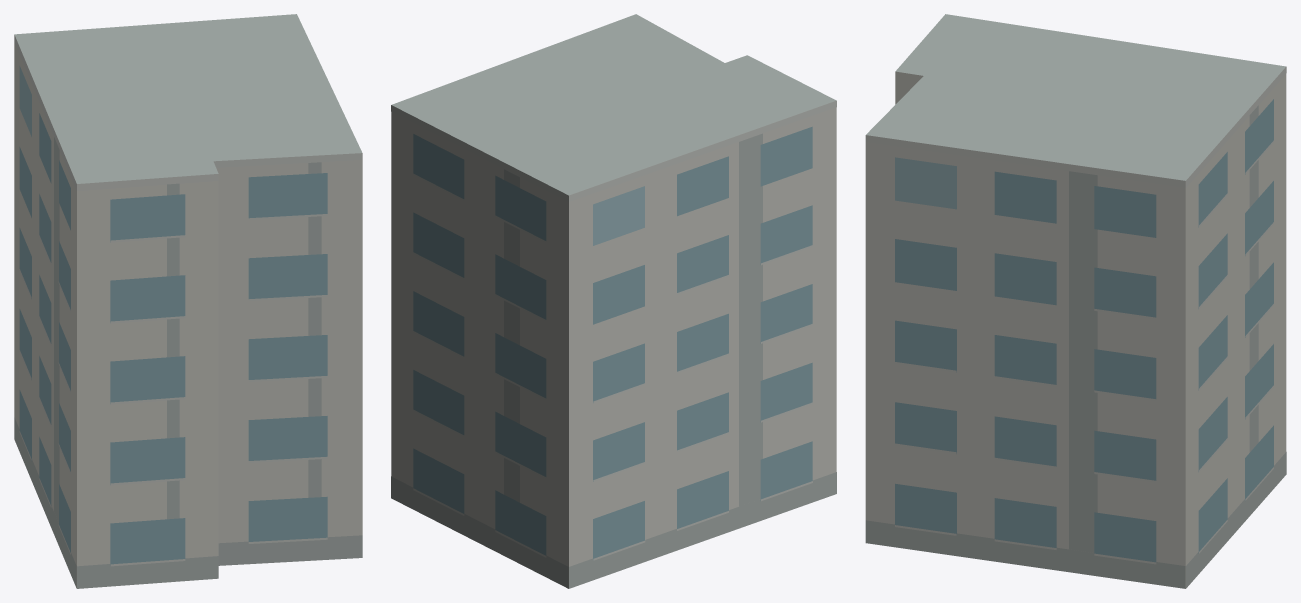
File: survey-upis-32849531.glb
3 renders of one model, left to right at view 1: azimuth 30°, elevation 25°; view 2: azimuth 150°, elevation 25°; view 3: azimuth 270°, elevation 25°, orthographic. The views are drawn at different scales.
Visible parts, largest first — view 1: survey-upis-32849531.tmp; view 2: survey-upis-32849531.tmp; view 3: survey-upis-32849531.tmp.
Part boxes in pixels (x1=…): survey-upis-32849531.tmp: x1=14, y1=14, x2=362, y2=588; survey-upis-32849531.tmp: x1=391, y1=14, x2=836, y2=588; survey-upis-32849531.tmp: x1=865, y1=14, x2=1286, y2=588.
Size of the model in its own units: 12.51 by 14.25 by 13.33.
